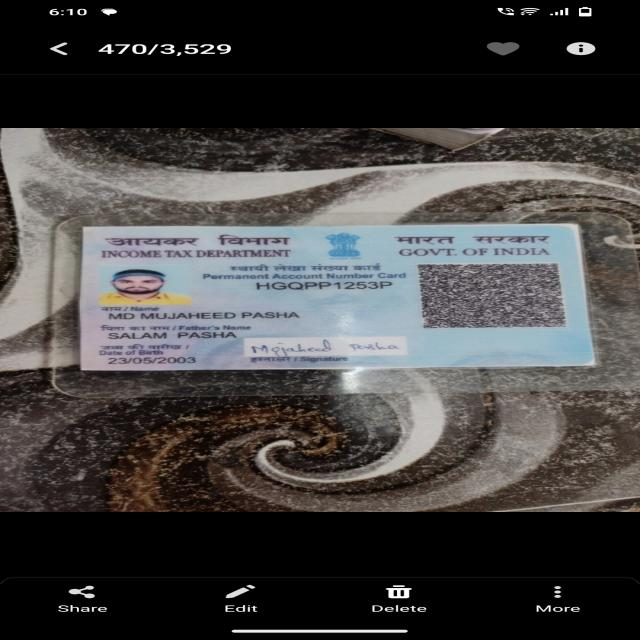pan_card: (81, 224, 597, 371)
